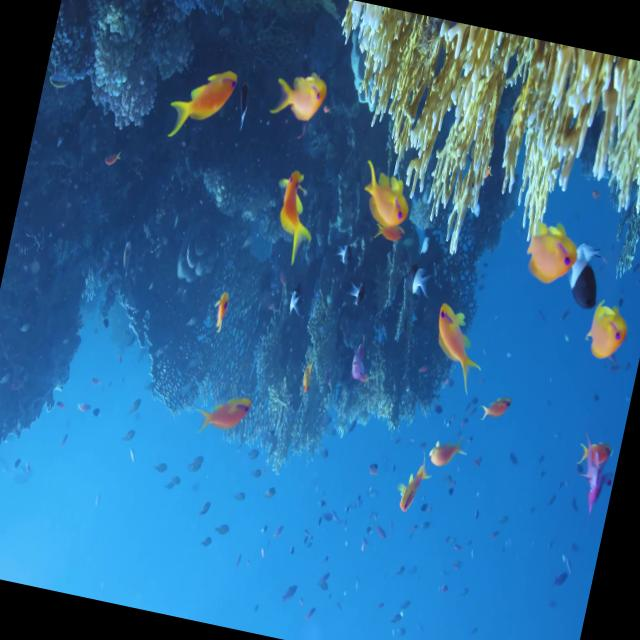fish: (422, 297, 492, 393), (167, 61, 240, 142), (518, 216, 582, 289), (354, 160, 418, 232), (267, 170, 319, 256), (556, 242, 608, 314), (270, 66, 329, 126), (580, 300, 630, 360), (196, 390, 252, 438), (394, 458, 430, 512), (476, 392, 512, 430)
